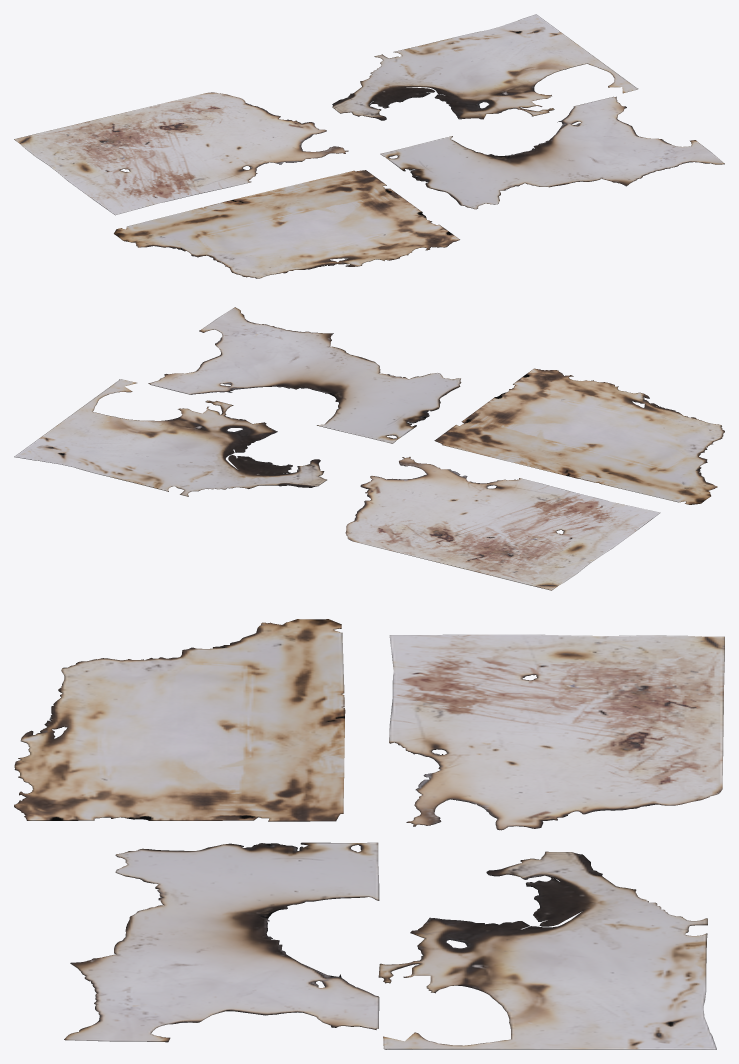
Rendered from burnt_paper_lowpoly_4_sheet_pack_for_free.glb.
3 views of the same model, one above another, from view 1: azimuth 30°, elevation 25°; view 2: azimuth 150°, elevation 25°; view 3: azimuth 270°, elevation 25° (orthographic). The views are drawn at different scales.
Parts seen in each view (by area): view 1: Burnt_paper_0, Burnt_paper.003_2, Burnt_paper.001_1, Burnt_paper.004_3; view 2: Burnt_paper_0, Burnt_paper.003_2, Burnt_paper.001_1, Burnt_paper.004_3; view 3: Burnt_paper_0, Burnt_paper.003_2, Burnt_paper.001_1, Burnt_paper.004_3.
Part boxes in pixels (x1,y1,x2,y2): Burnt_paper_0: (14, 92, 348, 215); Burnt_paper.003_2: (114, 170, 459, 278); Burnt_paper.001_1: (332, 14, 638, 120); Burnt_paper.004_3: (380, 96, 724, 209); Burnt_paper_0: (345, 457, 660, 590); Burnt_paper.003_2: (434, 368, 724, 504); Burnt_paper.001_1: (14, 379, 326, 496); Burnt_paper.004_3: (148, 307, 461, 443); Burnt_paper_0: (389, 634, 724, 830); Burnt_paper.003_2: (14, 619, 345, 821); Burnt_paper.001_1: (378, 851, 716, 1049); Burnt_paper.004_3: (64, 842, 379, 1042).
Size of the model in its own units: 0.6566 by 0.000254 by 0.4584.
1 material, 1 textured.
